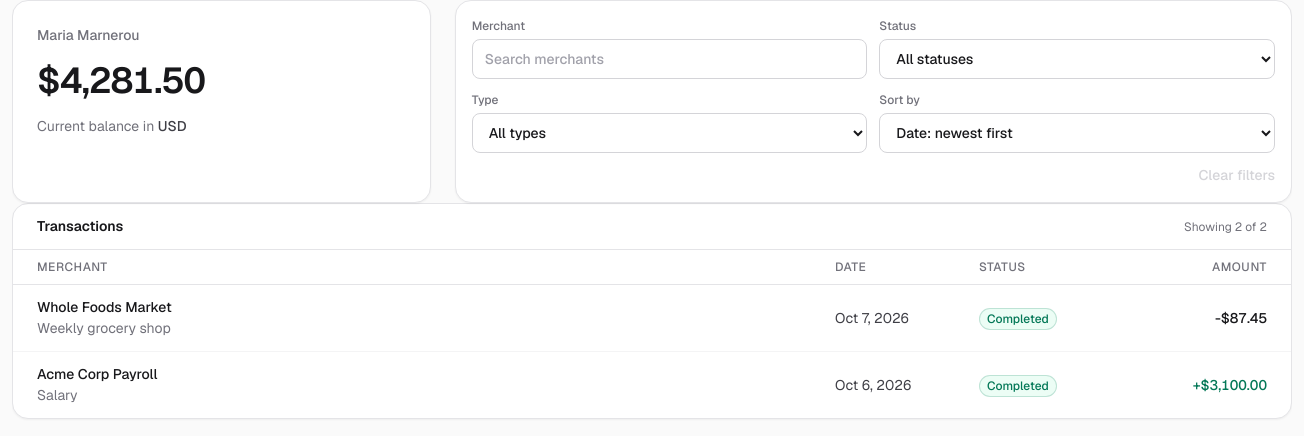
Test case: TransactionDashboard › filters the list when a merchant is searched
In the search field with placeholder "Search merchants": x=670, y=59 472,39 -> 867,79, type "whole"
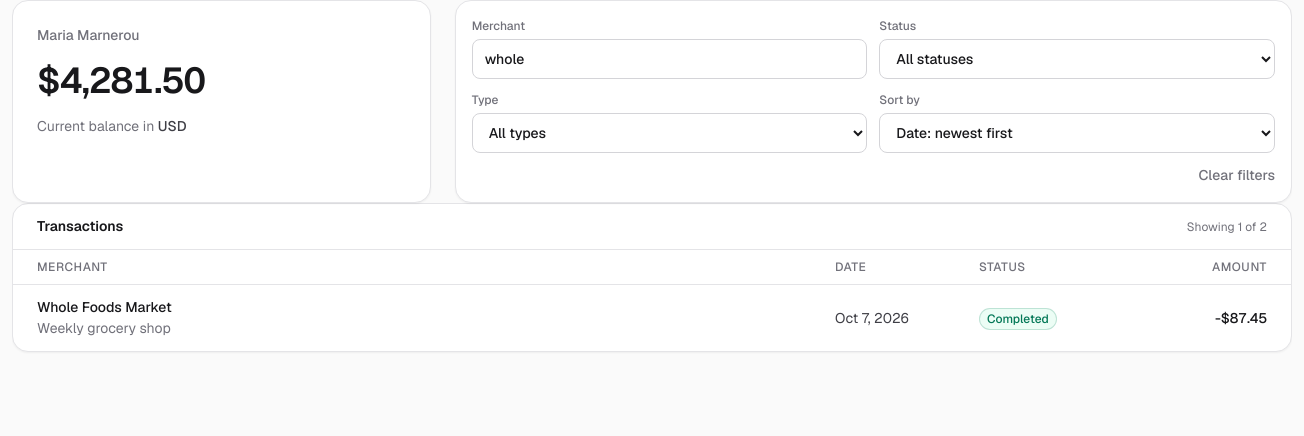
Expected: the button "Whole Foods Market" is shown, 13,285 -> 1291,351
Expected: the text "Showing 1 of 2" is shown, 1187,218 -> 1267,236
